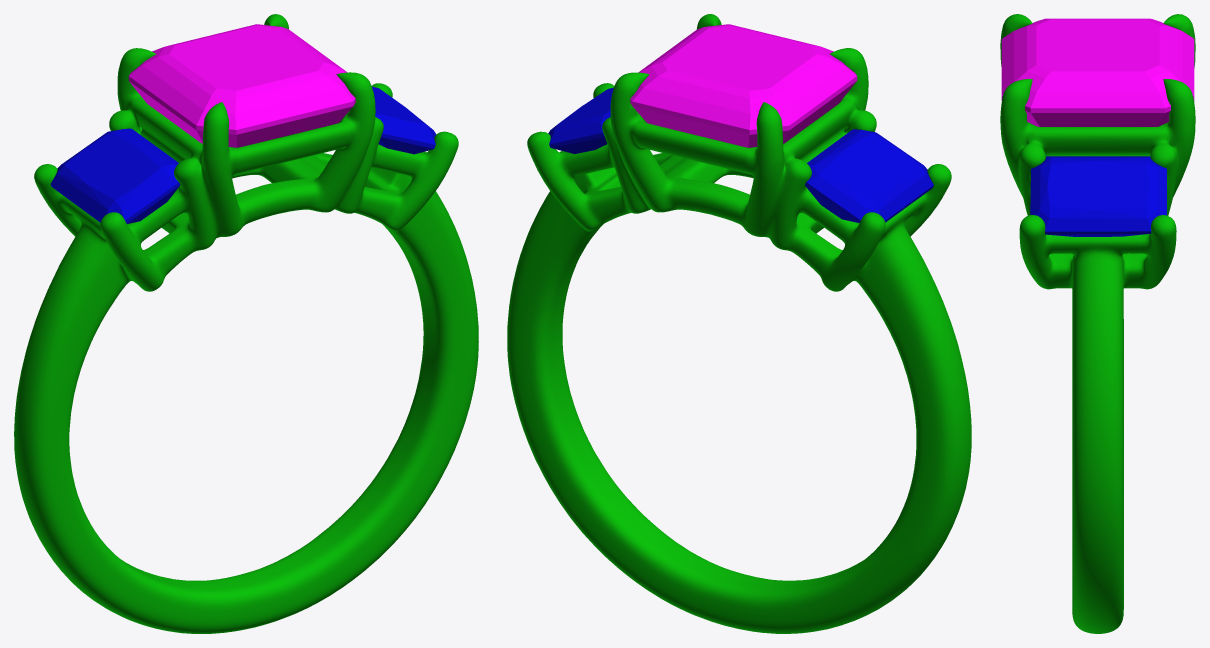
File: BE1D4822_AS_200ct_RENDER.glb
3 renders of one model, left to right at view 1: azimuth 30°, elevation 25°; view 2: azimuth 150°, elevation 25°; view 3: azimuth 270°, elevation 25°, orthographic.
Parts seen in each view (by area): view 1: Metal 01, CS_Diamond_Asscher, Diamond_Radiant_side.001, Diamond_Radiant_side; view 2: Metal 01, CS_Diamond_Asscher, Diamond_Radiant_side.001, Diamond_Radiant_side; view 3: Metal 01, CS_Diamond_Asscher, Diamond_Radiant_side.
Boxes of the visible parts, x1=… form: Metal 01: x1=14, y1=14, x2=478, y2=633; CS_Diamond_Asscher: x1=128, y1=24, x2=355, y2=147; Diamond_Radiant_side.001: x1=50, y1=128, x2=180, y2=223; Diamond_Radiant_side: x1=372, y1=86, x2=436, y2=154; Metal 01: x1=507, y1=14, x2=971, y2=633; CS_Diamond_Asscher: x1=630, y1=24, x2=857, y2=147; Diamond_Radiant_side.001: x1=805, y1=129, x2=933, y2=222; Diamond_Radiant_side: x1=548, y1=87, x2=613, y2=153; Metal 01: x1=1000, y1=14, x2=1195, y2=633; CS_Diamond_Asscher: x1=1001, y1=18, x2=1194, y2=126; Diamond_Radiant_side: x1=1030, y1=156, x2=1166, y2=236.
Size of the model in its own units: 20.32 by 24.2 by 7.59.
